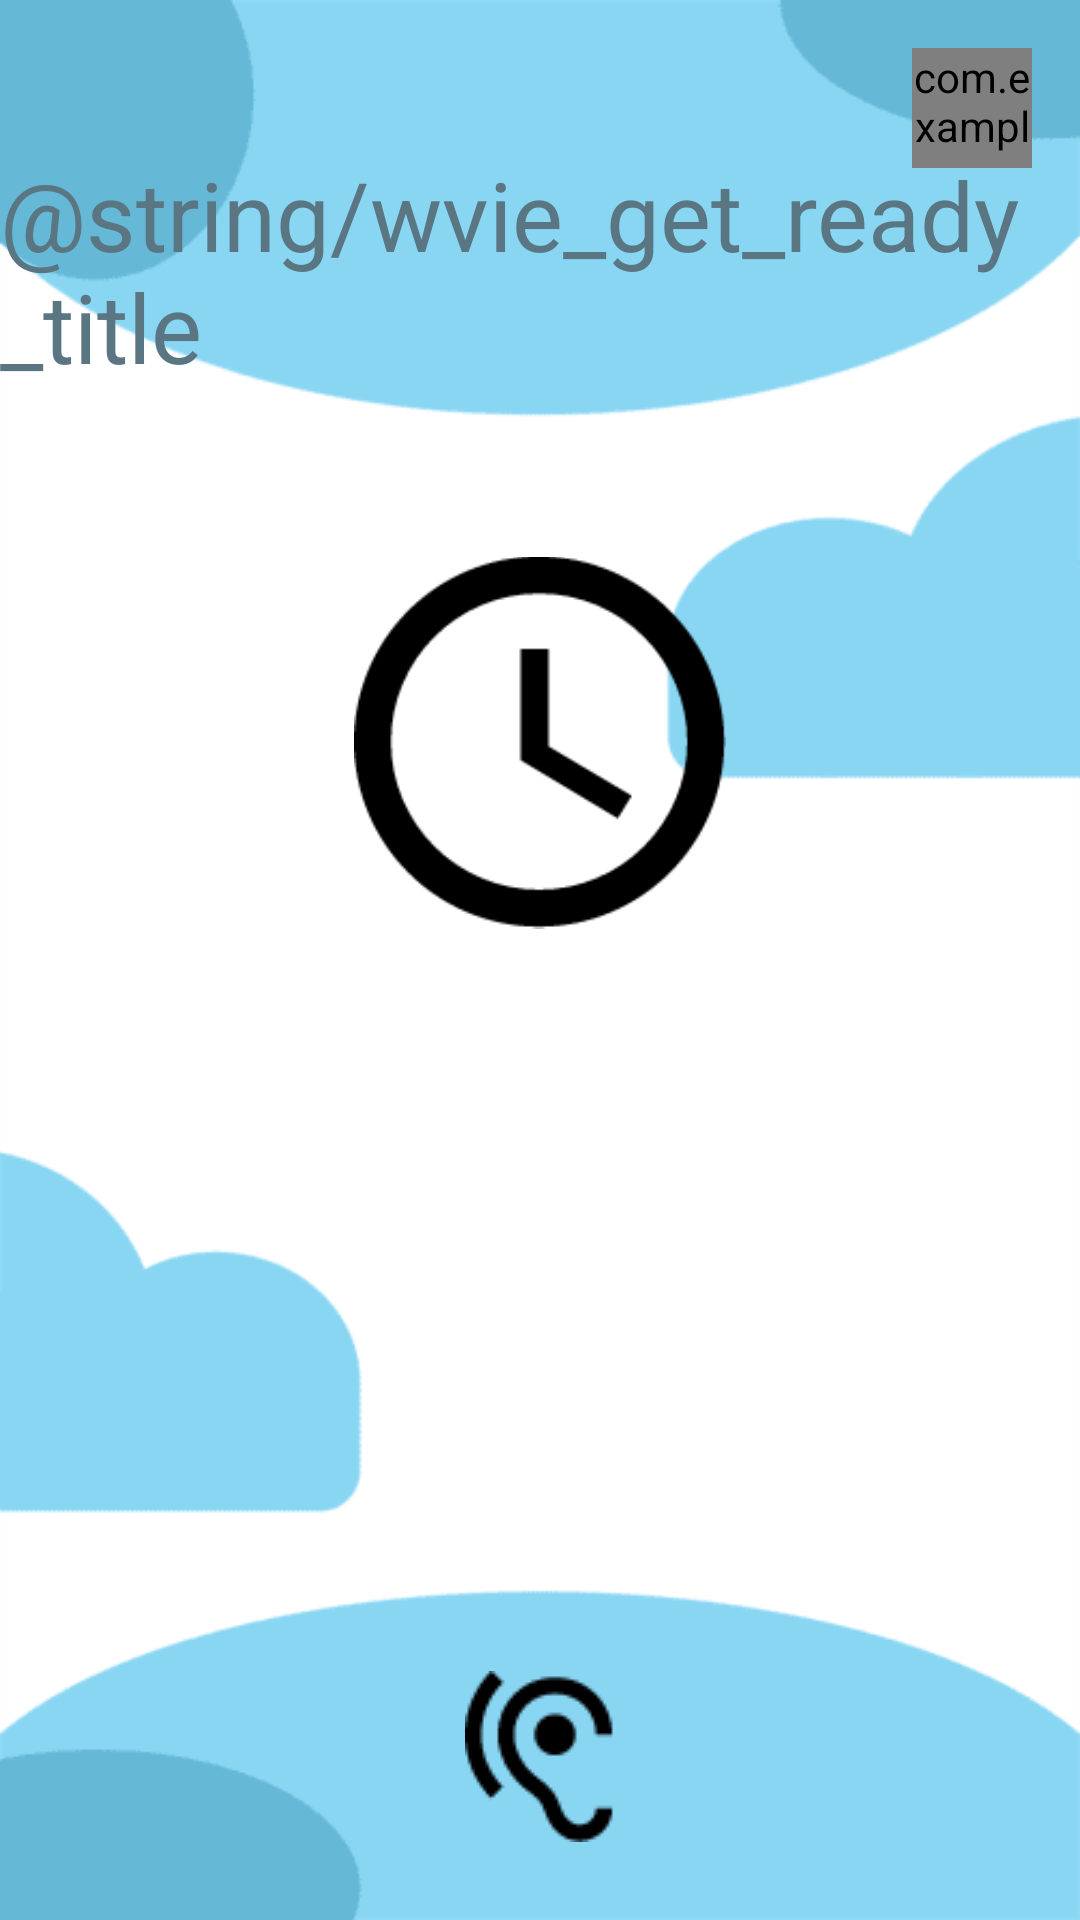

Named icons in this screenshot (1080px×1920px) and their bounding boxes, (x1, y1, x2, y2):
pictogram oortje: (465, 1671, 613, 1842)
